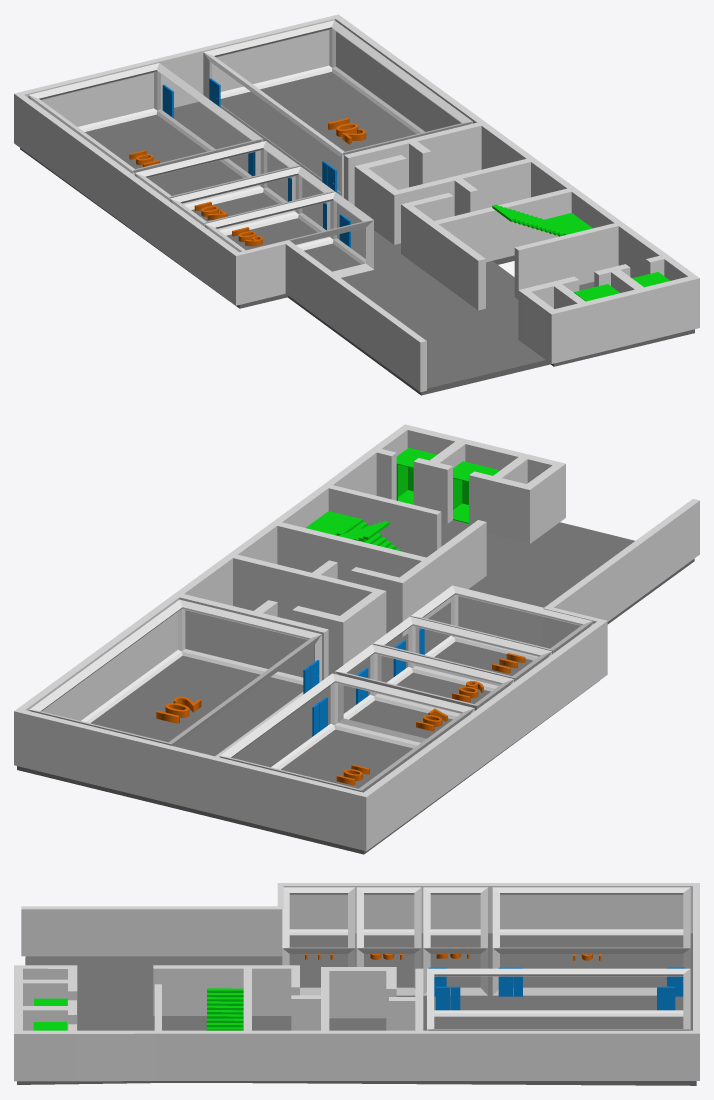
3 renders of one model, top to bottom at view 1: azimuth 30°, elevation 25°; view 2: azimuth 150°, elevation 25°; view 3: azimuth 270°, elevation 25°, orthographic. The views are drawn at different scales.
Visible parts, largest first — view 1: Wall.001, Floor.001, B102.001, B102.002, B102.005, B102.003, B102.004, Stair2.001, Text.002; view 2: Wall.001, Floor.001, B102.001, B102.002, B102.003, B102.005, B102.004, Elevator2.001, Elevator1.001, Text.002, StairFlatFloor2.001; view 3: Wall.001, Floor.001, B102.002, B102.001, B102.003, B102.005, B102.004, Stair2.001, Door.004, Door.007, Door.005.
Part boxes in pixels (left/top/right/bottom): Wall.001: left=14, top=14, right=699, bottom=392; Floor.001: left=20, top=72, right=694, bottom=395; B102.001: left=203, top=20, right=472, bottom=197; B102.002: left=28, top=63, right=263, bottom=204; B102.005: left=204, top=192, right=373, bottom=277; B102.003: left=135, top=141, right=299, bottom=230; B102.004: left=169, top=166, right=334, bottom=245; Stair2.001: left=492, top=204, right=564, bottom=236; Text.002: left=328, top=118, right=366, bottom=144; Wall.001: left=14, top=424, right=699, bottom=851; Floor.001: left=17, top=520, right=694, bottom=854; B102.001: left=29, top=599, right=321, bottom=757; B102.002: left=219, top=673, right=474, bottom=792; B102.003: left=335, top=644, right=514, bottom=742; B102.005: left=410, top=585, right=593, bottom=685; B102.004: left=373, top=616, right=552, bottom=691; Elevator2.001: left=453, top=461, right=499, bottom=523; Elevator1.001: left=396, top=448, right=436, bottom=504; Text.002: left=156, top=696, right=201, bottom=723; StairFlatFloor2.001: left=306, top=511, right=357, bottom=535; Wall.001: left=14, top=883, right=699, bottom=1081; Floor.001: left=17, top=933, right=696, bottom=1085; B102.002: left=492, top=887, right=690, bottom=995; B102.001: left=427, top=968, right=690, bottom=1030; B102.003: left=423, top=887, right=487, bottom=995; B102.005: left=282, top=887, right=355, bottom=995; B102.004: left=356, top=887, right=421, bottom=995; Stair2.001: left=206, top=988, right=243, bottom=1030; Door.004: left=436, top=986, right=460, bottom=1010; Door.007: left=498, top=967, right=522, bottom=996; Door.005: left=657, top=986, right=675, bottom=1010.
Size of the model in its own units: 0.9585 by 0.1708 by 1.84.
